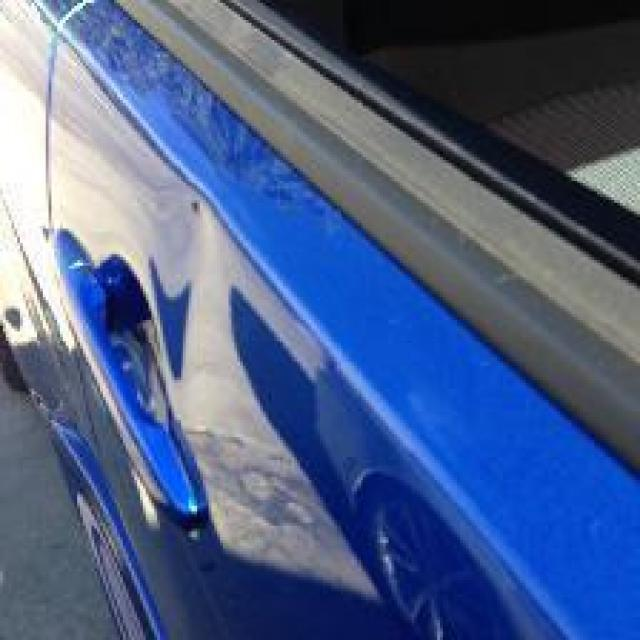damaged: (122, 177, 228, 369)
